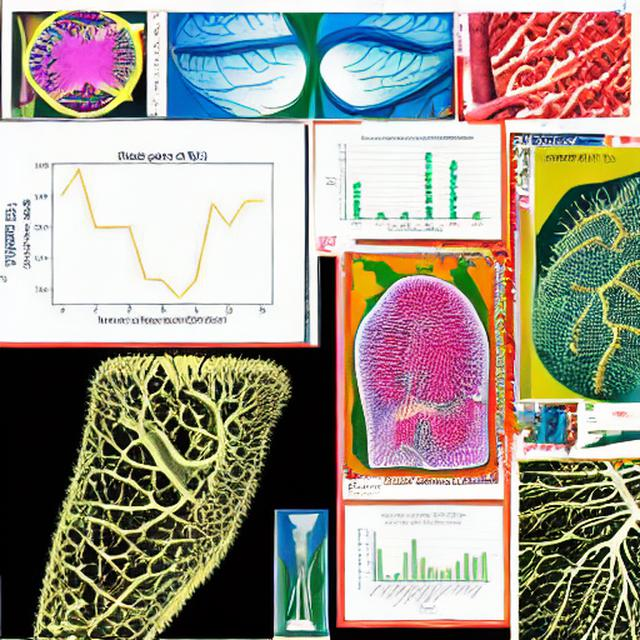Graph: (17, 126, 301, 339), (323, 132, 492, 237), (354, 511, 490, 617)
